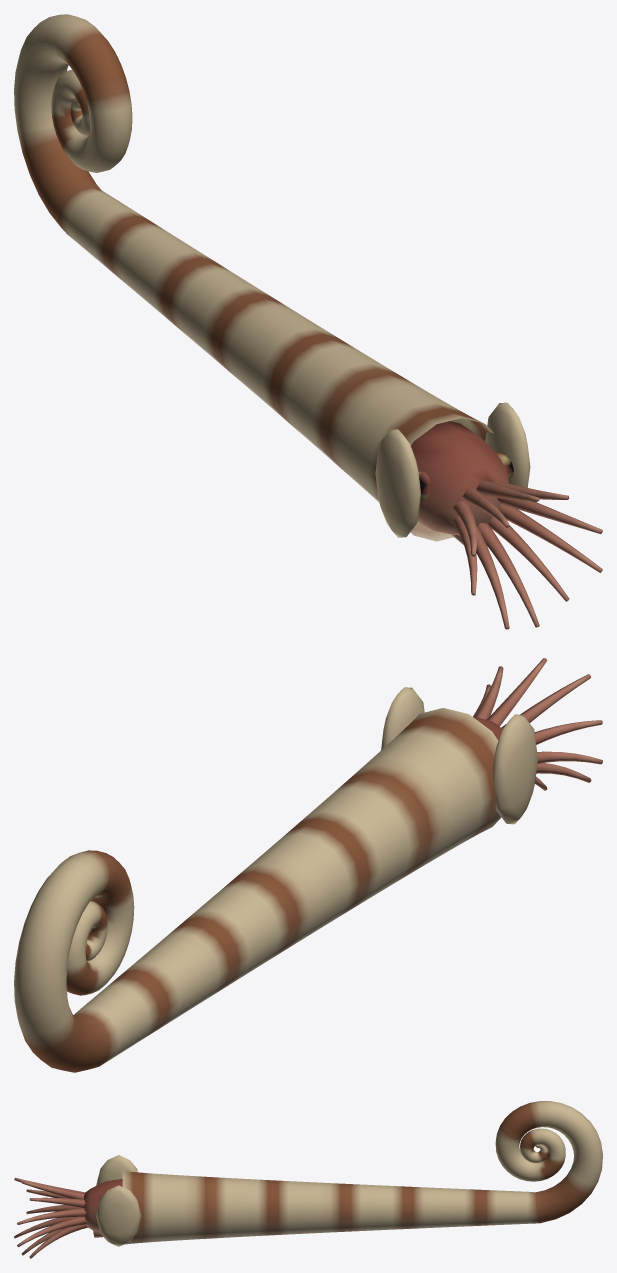
The model's file is LituitesLituus.fbx.
The picture shows the model from 3 angles, top to bottom: view 1: azimuth 30°, elevation 25°; view 2: azimuth 150°, elevation 25°; view 3: azimuth 270°, elevation 25°; orthographic projection. The views are drawn at different scales.
Visible parts, largest first — view 1: LituitesLituus; view 2: LituitesLituus; view 3: LituitesLituus.
Boxes of the visible parts, x1,y1,x2,y2 form: LituitesLituus: (14,14,602,629); LituitesLituus: (14,658,602,1072); LituitesLituus: (14,1101,602,1258).
Size of the model in its own units: 0.228 by 0.4478 by 1.56.
